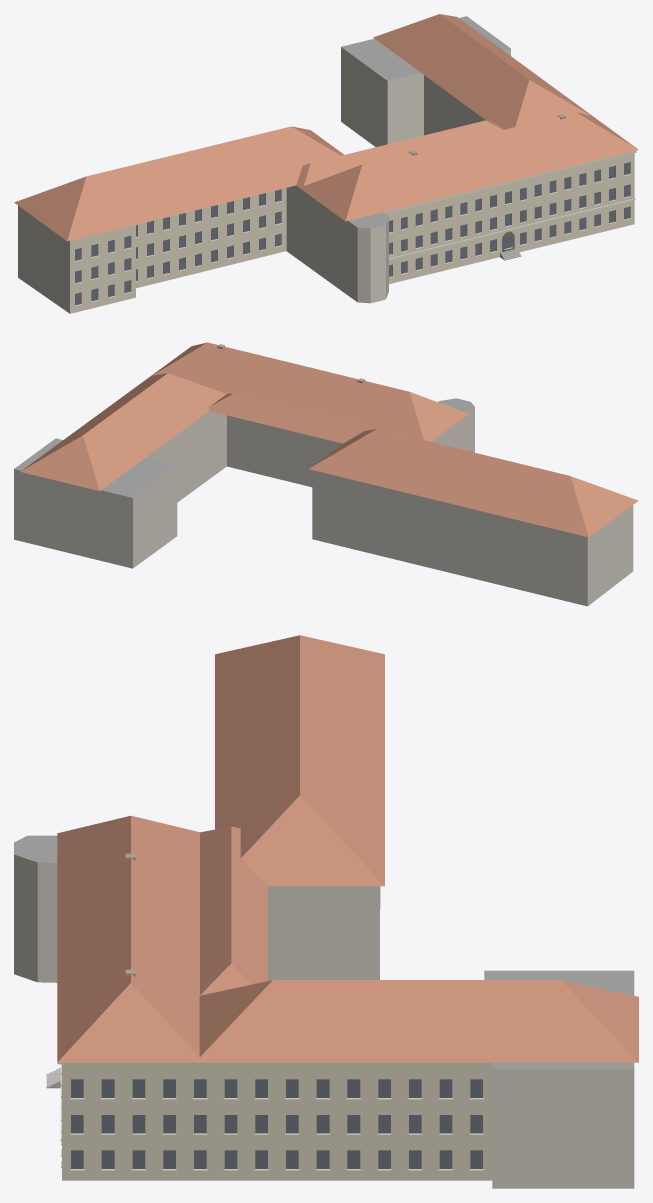
The picture shows the model from 3 angles, top to bottom: view 1: azimuth 30°, elevation 25°; view 2: azimuth 150°, elevation 25°; view 3: azimuth 270°, elevation 25°; orthographic projection. The views are drawn at different scales.
Visible parts, largest first — view 1: CP_1360_Masonry, CP_1360_WingRoof_left, CP_1360_WingRoof_front, CP_1360_WingRoof_right, CP_1360_WingRoof_mid, CP_1360_Cornice_main_eave_0, CP_1360_Cornice_main_string_0; view 2: CP_1360_Masonry, CP_1360_WingRoof_left, CP_1360_WingRoof_front, CP_1360_WingRoof_right, CP_1360_WingRoof_mid; view 3: CP_1360_Masonry, CP_1360_WingRoof_left, CP_1360_WingRoof_right, CP_1360_WingRoof_front, CP_1360_WingRoof_mid.
Boxes of the visible parts, bbox=[...] form: CP_1360_Masonry: bbox=[18, 16, 634, 313]; CP_1360_WingRoof_left: bbox=[14, 126, 343, 241]; CP_1360_WingRoof_front: bbox=[299, 112, 638, 221]; CP_1360_WingRoof_right: bbox=[373, 14, 591, 129]; CP_1360_WingRoof_mid: bbox=[296, 120, 504, 187]; CP_1360_Cornice_main_eave_0: bbox=[384, 150, 636, 213]; CP_1360_Cornice_main_string_0: bbox=[389, 198, 635, 260]; CP_1360_Masonry: bbox=[14, 398, 633, 606]; CP_1360_WingRoof_left: bbox=[309, 429, 638, 537]; CP_1360_WingRoof_front: bbox=[150, 342, 468, 441]; CP_1360_WingRoof_right: bbox=[20, 373, 226, 491]; CP_1360_WingRoof_mid: bbox=[208, 393, 401, 443]; CP_1360_Masonry: bbox=[14, 835, 634, 1188]; CP_1360_WingRoof_left: bbox=[215, 635, 384, 886]; CP_1360_WingRoof_right: bbox=[199, 980, 638, 1062]; CP_1360_WingRoof_front: bbox=[57, 815, 203, 1062]; CP_1360_WingRoof_mid: bbox=[200, 826, 267, 995].
Size of the model in its own units: 100 by 19.7 by 63.81.
